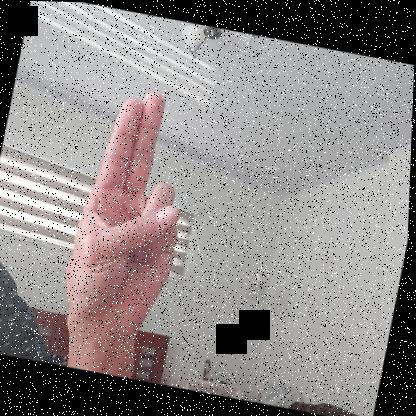U: (57, 78, 208, 340)
